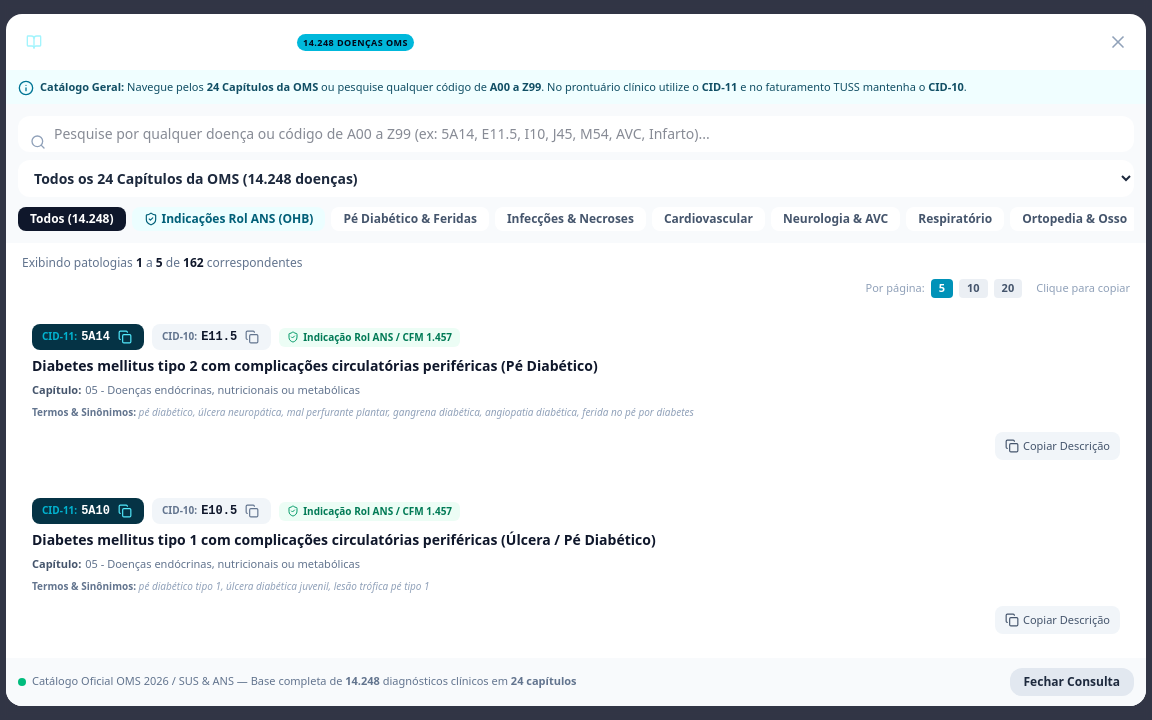
CidLookupModal Component › deve filtrar por categorias rápidas como Indicações Rol ANS (OHB)
Click the button "Indicações Rol ANS (OHB)": click(228, 219) [132, 207, 325, 231]
(page scrolled)
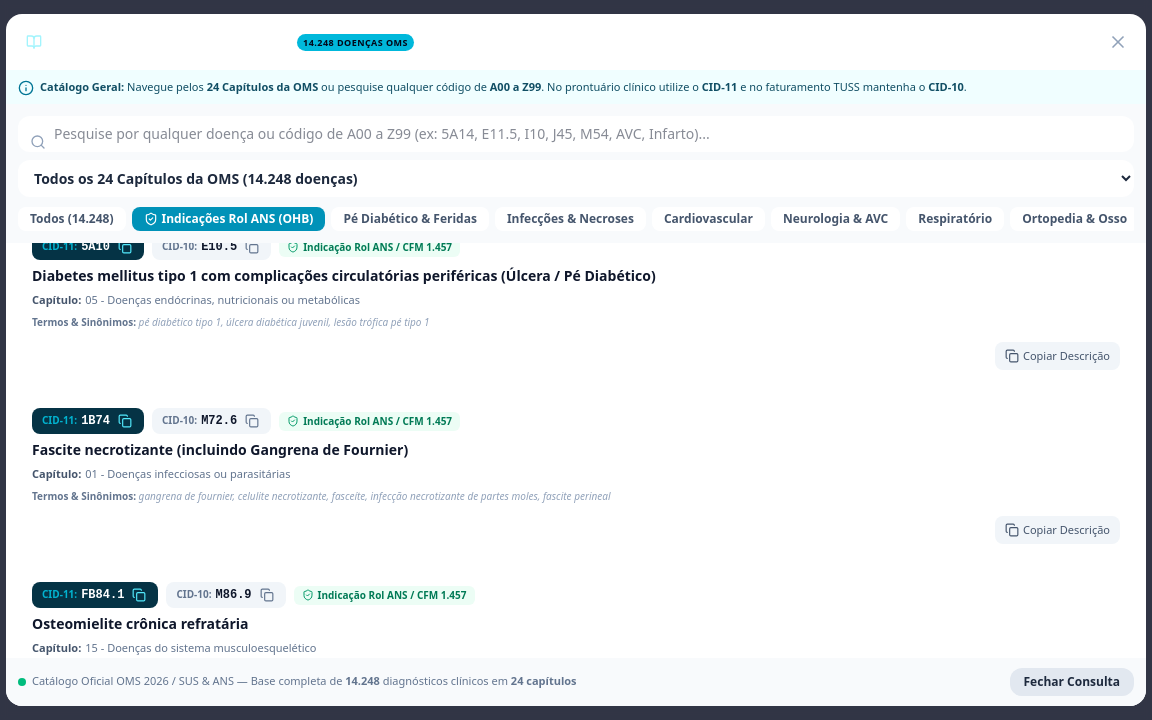
Expected: the heading "Fascite necrotizante (incluindo Gangrena de Fournier)" is shown, [32, 440, 408, 459]
